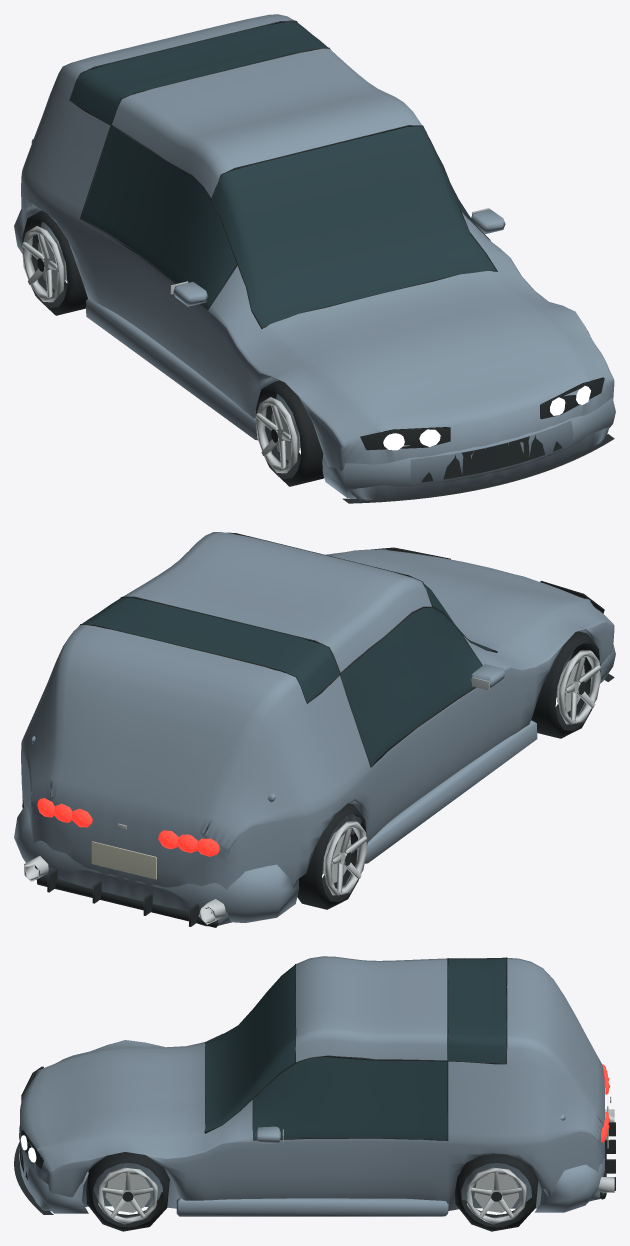
File: caldorva-zerith.glb
The picture shows the model from 3 angles, top to bottom: view 1: azimuth 30°, elevation 25°; view 2: azimuth 150°, elevation 25°; view 3: azimuth 270°, elevation 25°; orthographic projection. The views are drawn at different scales.
Visible parts, largest first — view 1: scocca, cristallo_ant, cofano, tetto, cristallo_sx, porta_sx, cristallo_post, minigonna_sx, paraurti_ant, portellone, ruota_ant_sx_gomma, ruota_post_sx_gomma (+11 smaller); view 2: scocca, portellone, tetto, cristallo_sx, cofano, porta_sx, cristallo_post, paraurti_post, minigonna_sx, ruota_ant_sx_gomma, ruota_post_sx_gomma, targa (+7 smaller); view 3: scocca, tetto, cofano, cristallo_dx, porta_dx, portellone, cristallo_ant, cristallo_post, minigonna_dx, ruota_ant_dx_gomma, ruota_post_dx_gomma, paraurti_post (+11 smaller).
Part boxes in pixels (x1,y1,x2,y2): scocca: (21, 90, 614, 500); cristallo_ant: (212, 126, 495, 326); cofano: (262, 271, 588, 423); tetto: (111, 48, 421, 197); cristallo_sx: (81, 126, 236, 308); porta_sx: (80, 219, 222, 391); cristallo_post: (70, 21, 327, 124); minigonna_sx: (86, 298, 257, 440); paraurti_ant: (322, 398, 615, 498); portellone: (50, 14, 294, 99); ruota_ant_sx_gomma: (256, 380, 323, 486); ruota_post_sx_gomma: (22, 210, 87, 315); scocca: (21, 549, 614, 926); portellone: (46, 625, 306, 837); tetto: (123, 532, 431, 672); cristallo_sx: (340, 607, 481, 766); cofano: (330, 549, 588, 652); porta_sx: (366, 682, 500, 842); cristallo_post: (82, 597, 339, 702); paraurti_post: (14, 803, 299, 922); minigonna_sx: (364, 720, 537, 863); ruota_ant_sx_gomma: (531, 631, 600, 738); ruota_post_sx_gomma: (297, 803, 367, 909); targa: (91, 841, 156, 879); scocca: (20, 1033, 604, 1211); tetto: (295, 956, 447, 1062); cofano: (41, 1043, 205, 1151); cristallo_dx: (253, 1057, 447, 1140); porta_dx: (238, 1138, 447, 1203); portellone: (507, 957, 604, 1126); cristallo_ant: (205, 965, 295, 1131); cristallo_post: (448, 957, 506, 1063); minigonna_dx: (176, 1198, 448, 1216); ruota_ant_dx_gomma: (86, 1152, 169, 1231); ruota_post_dx_gomma: (455, 1153, 538, 1231); paraurti_post: (534, 1153, 604, 1212).
Bounding box in the file's own units: 2.35 × 1.63 × 4.86.
